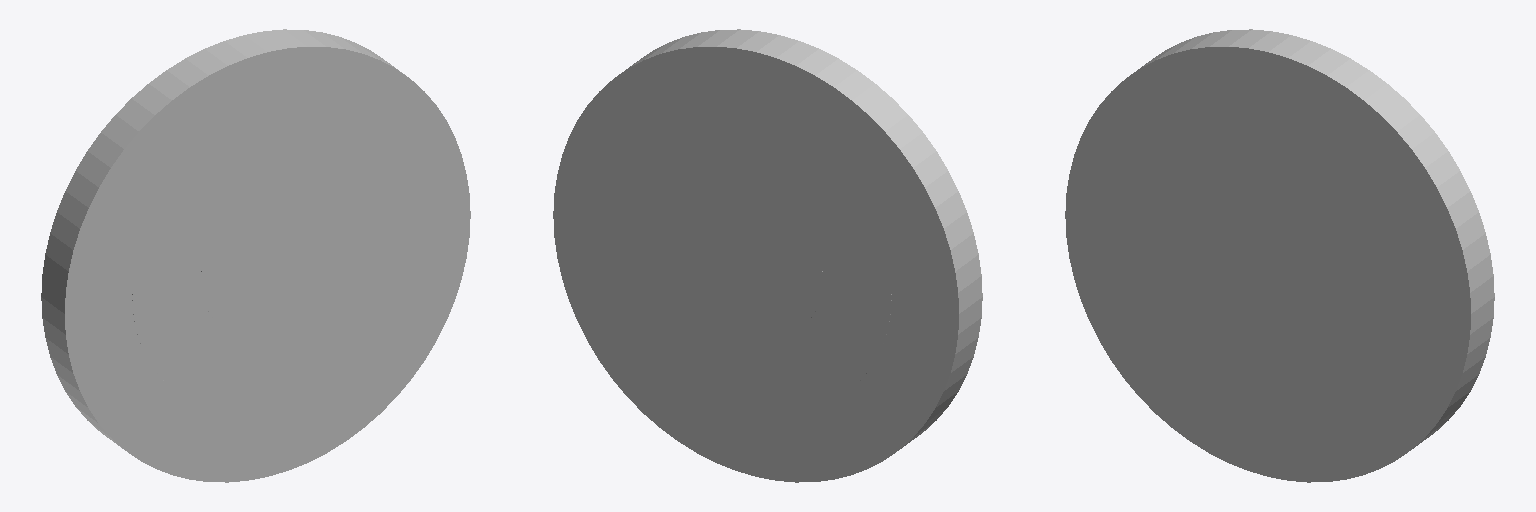
Rendered from RotaryDisc3.obj.
3 renders of one model, left to right at view 1: azimuth 30°, elevation 25°; view 2: azimuth 150°, elevation 25°; view 3: azimuth 330°, elevation 25°, orthographic.
Visible parts, largest first — view 1: OuterRing_Cylinder.002, MiddleRing_Cylinder.003, InnerRing_Cylinder.005; view 2: OuterRing_Cylinder.002, MiddleRing_Cylinder.003, InnerRing_Cylinder.005; view 3: OuterRing_Cylinder.002, MiddleRing_Cylinder.003, InnerRing_Cylinder.005.
Part boxes in pixels (bbox=[...]): OuterRing_Cylinder.002: bbox=[41, 29, 470, 482]; MiddleRing_Cylinder.003: bbox=[132, 119, 402, 409]; InnerRing_Cylinder.005: bbox=[201, 193, 334, 335]; OuterRing_Cylinder.002: bbox=[553, 29, 982, 482]; MiddleRing_Cylinder.003: bbox=[621, 119, 891, 409]; InnerRing_Cylinder.005: bbox=[689, 193, 822, 335]; OuterRing_Cylinder.002: bbox=[1065, 29, 1494, 482]; MiddleRing_Cylinder.003: bbox=[1133, 119, 1403, 409]; InnerRing_Cylinder.005: bbox=[1201, 193, 1334, 335].
Bounding box in the file's own units: 2 × 2 × 0.2.